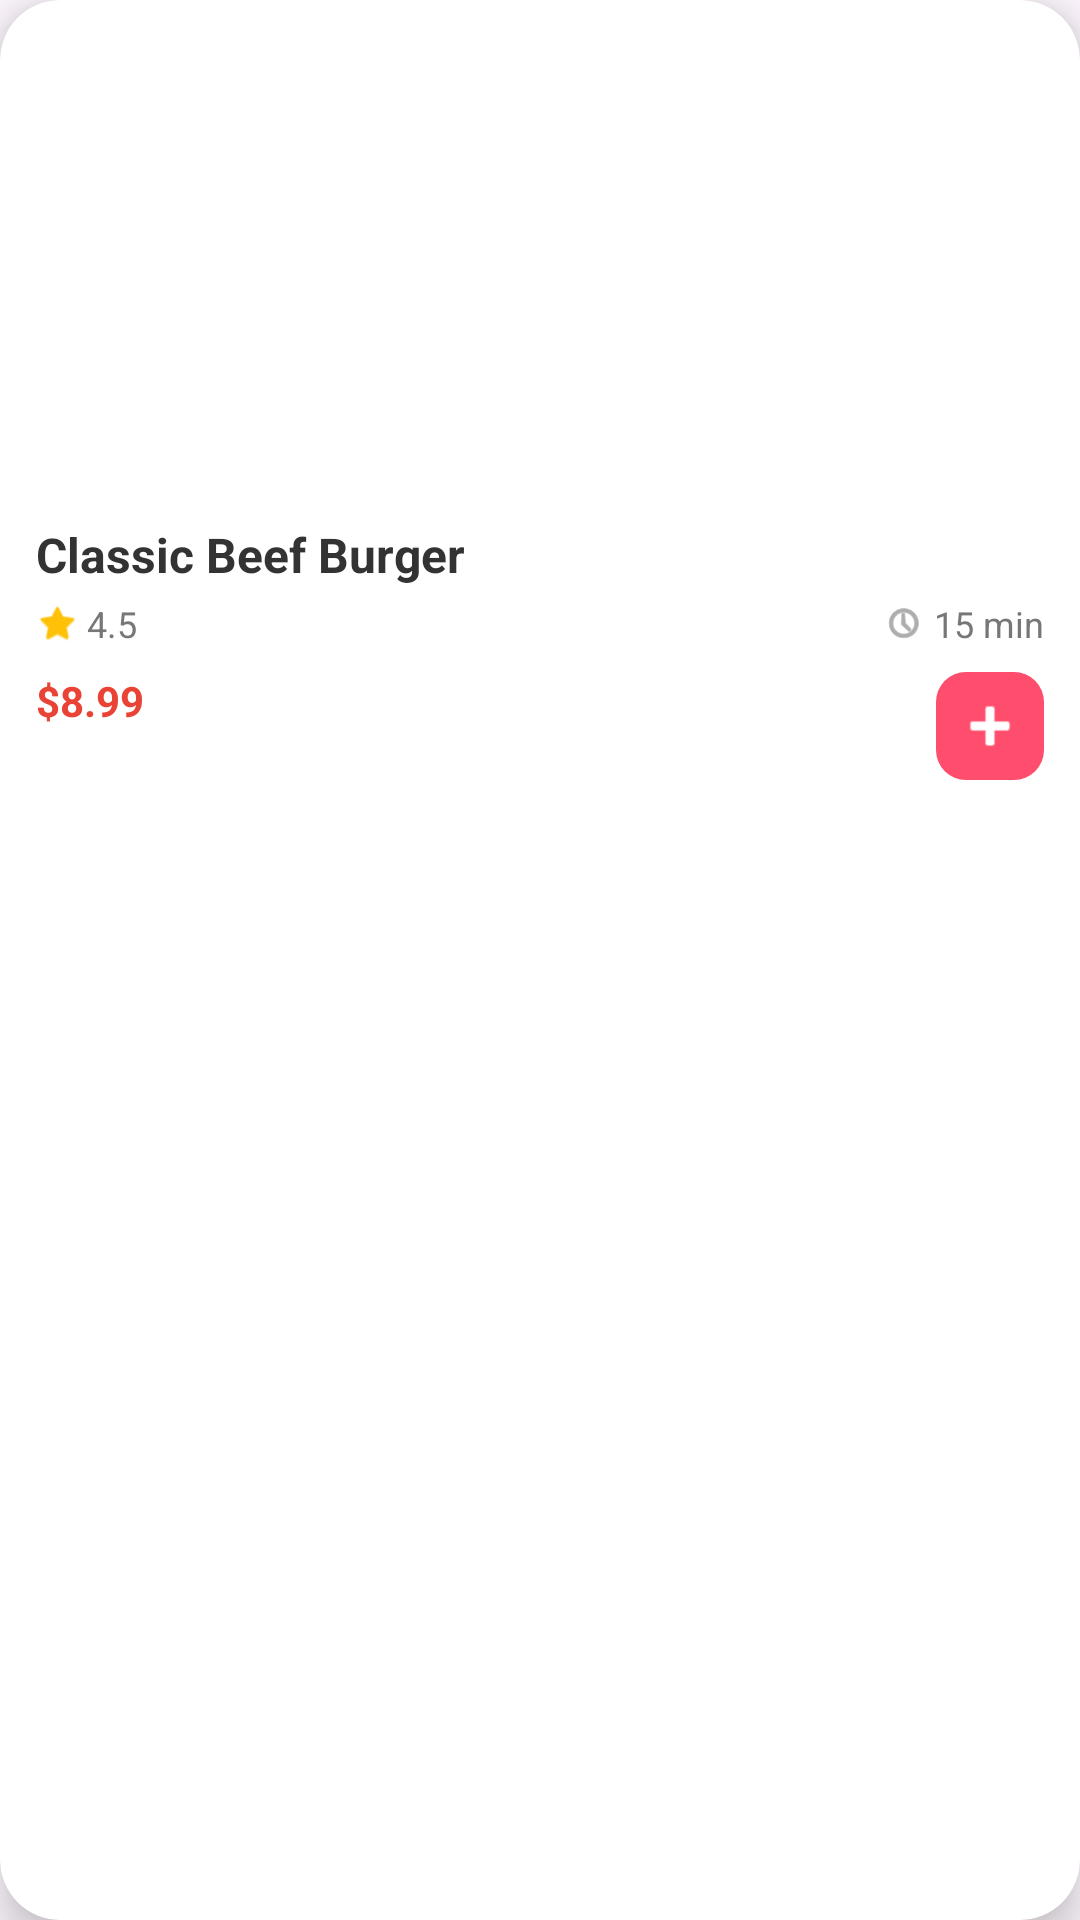

Screen size 1080px×1920px. Icon name, then its center in pixels as point (x, y):
add: point (990, 726)
recent history: point (904, 623)
star on: point (57, 623)
